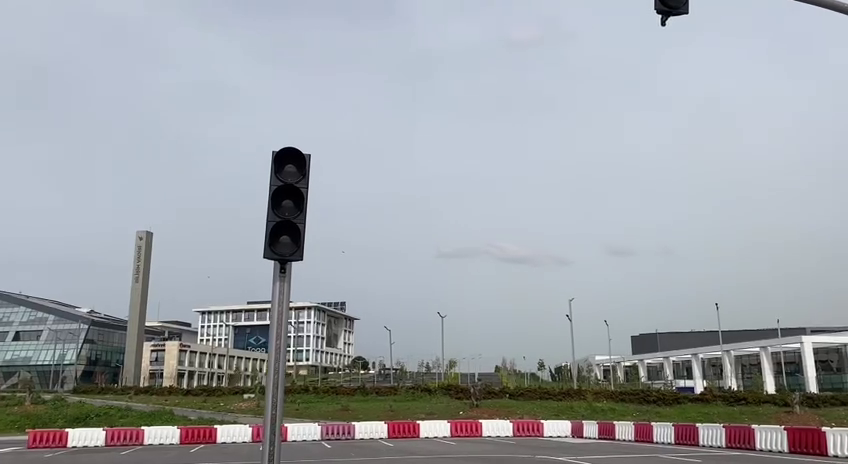trafficLight: (258, 142, 313, 266)
